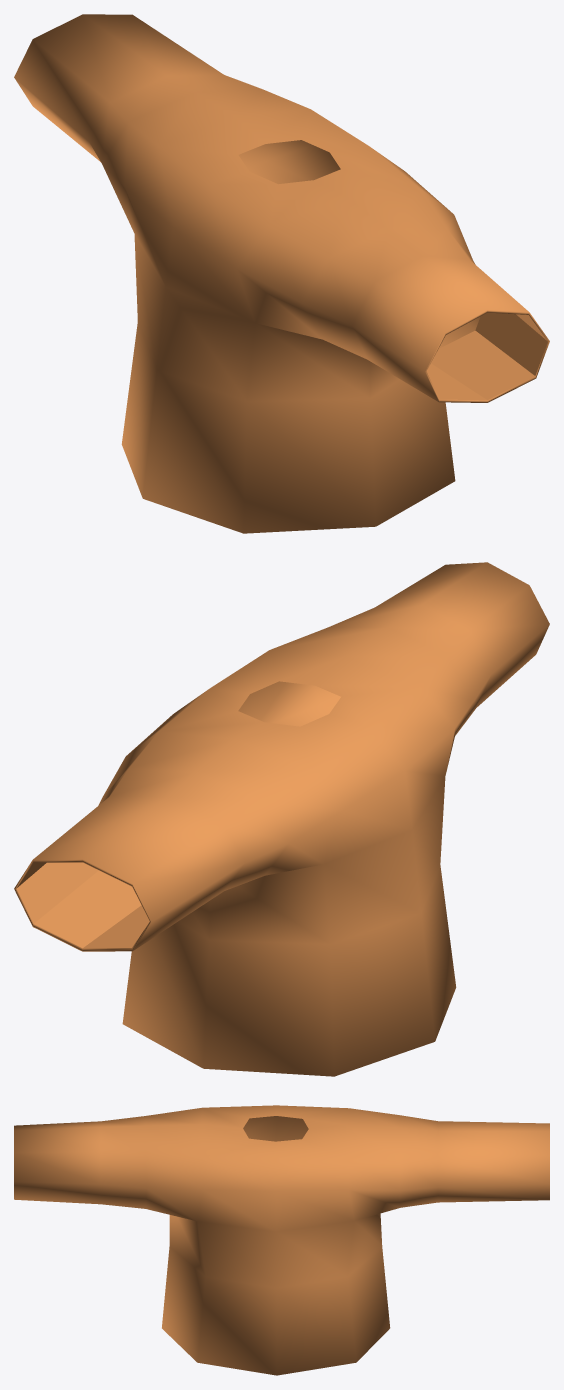
Rendered from buzo.fbx.
The picture shows the model from 3 angles, top to bottom: view 1: azimuth 30°, elevation 25°; view 2: azimuth 150°, elevation 25°; view 3: azimuth 270°, elevation 25°; orthographic projection. The views are drawn at different scales.
Visible parts, largest first — view 1: buzo; view 2: buzo; view 3: buzo.
Part boxes in pixels (<box>): buzo: <box>14,14,549,533</box>; buzo: <box>14,562,549,1076</box>; buzo: <box>14,1105,549,1375</box>.
Bounding box in the file's own units: 557 × 562 × 1336.
